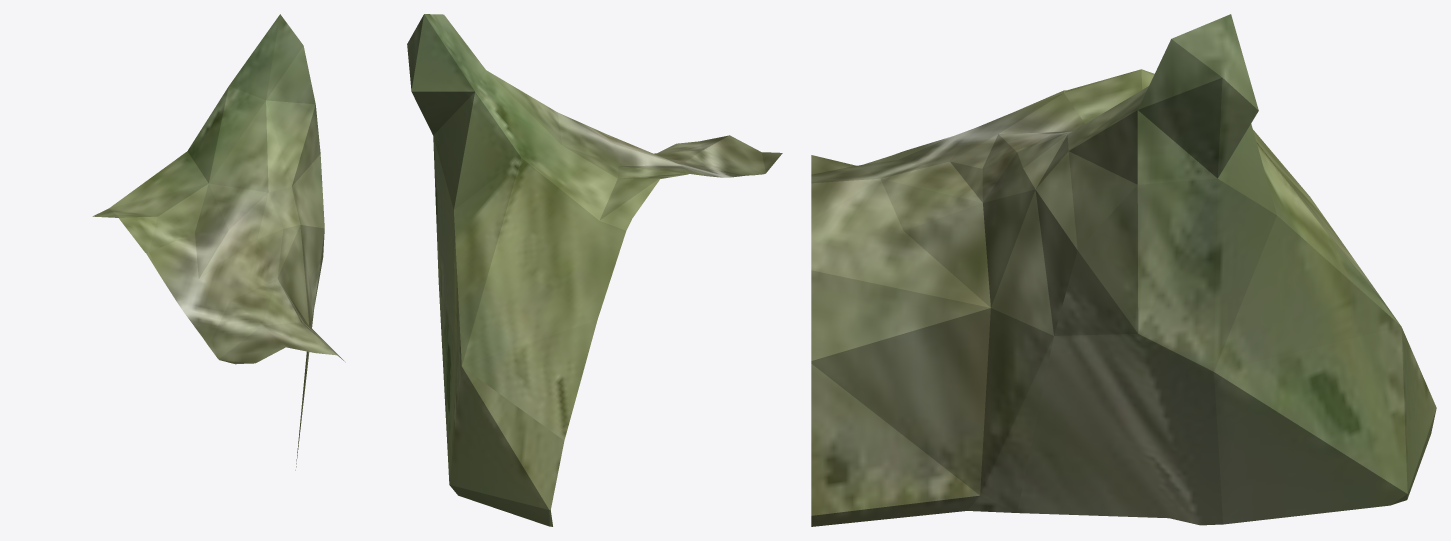
3 views of the same model, side by side, from view 1: azimuth 30°, elevation 25°; view 2: azimuth 150°, elevation 25°; view 3: azimuth 270°, elevation 25° (orthographic). The views are drawn at different scales.
Size of the model in its own units: 0.6768 by 1.19 by 1.22.
Materials: 1 (1 with a texture image).
